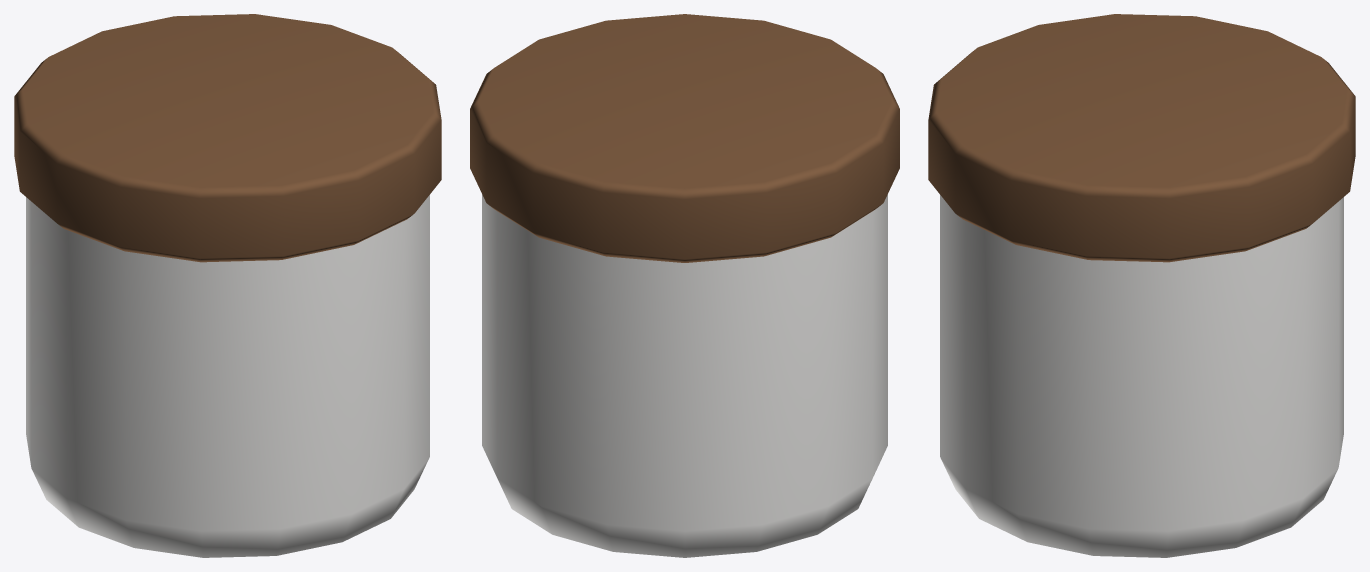
The model's file is Bottle_7.glb.
The picture shows the model from 3 angles, left to right: view 1: azimuth 30°, elevation 25°; view 2: azimuth 150°, elevation 25°; view 3: azimuth 270°, elevation 25°; orthographic projection.
Visible parts, largest first — view 1: Bottle_7; view 2: Bottle_7; view 3: Bottle_7.
Part boxes in pixels (left/top/right/bottom): Bottle_7: left=14, top=14, right=441, bottom=557; Bottle_7: left=470, top=14, right=899, bottom=557; Bottle_7: left=928, top=14, right=1355, bottom=557.
Size of the model in its own units: 0.1316 by 0.1333 by 0.1316.
Materials: 2 (2 with a texture image).
